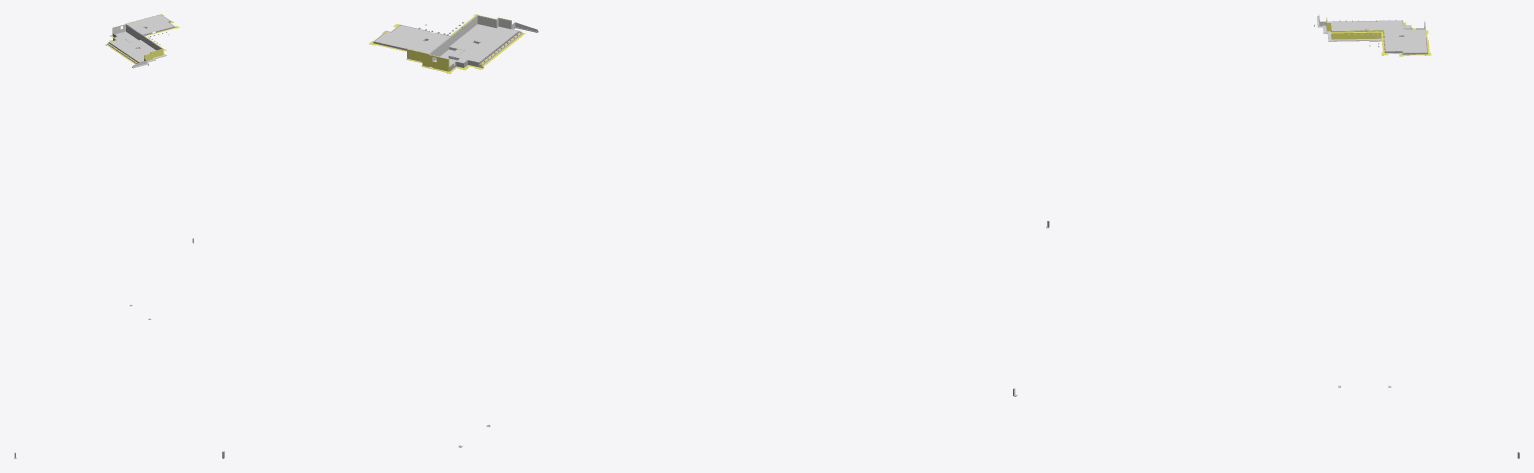
Rendered from RIB_3D_v12_rev1.dae.
3 renders of one model, left to right at view 1: azimuth 30°, elevation 25°; view 2: azimuth 150°, elevation 25°; view 3: azimuth 270°, elevation 25°, orthographic. The views are drawn at different scales.
Visible parts, largest first — view 1: IfcSlab/Floor:Gulv på grunn 100mm:799801, IfcSlab/Floor:Gulv på grunn 100mm:802700; view 2: IfcSlab/Floor:Gulv på grunn 100mm:799801, IfcSlab/Floor:Gulv på grunn 100mm:802700; view 3: IfcSlab/Floor:Gulv på grunn 100mm:802700, IfcSlab/Floor:Gulv på grunn 100mm:799801.
Part boxes in pixels (left/top/right/bottom): IfcSlab/Floor:Gulv på grunn 100mm:799801: left=110, top=37, right=155, bottom=61; IfcSlab/Floor:Gulv på grunn 100mm:802700: left=126, top=14, right=173, bottom=34; IfcSlab/Floor:Gulv på grunn 100mm:799801: left=449, top=24, right=517, bottom=62; IfcSlab/Floor:Gulv på grunn 100mm:802700: left=375, top=25, right=450, bottom=53; IfcSlab/Floor:Gulv på grunn 100mm:802700: left=1384, top=29, right=1426, bottom=52; IfcSlab/Floor:Gulv på grunn 100mm:799801: left=1327, top=20, right=1410, bottom=30.
Size of the model in its own units: 244 by 210 by 178.
